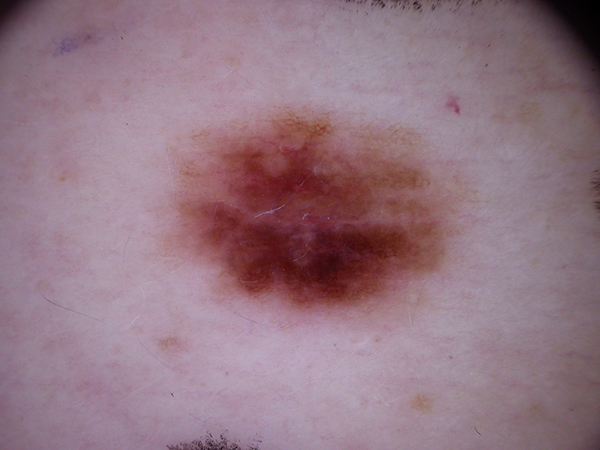Detected Lesion: (170, 110, 462, 302)
